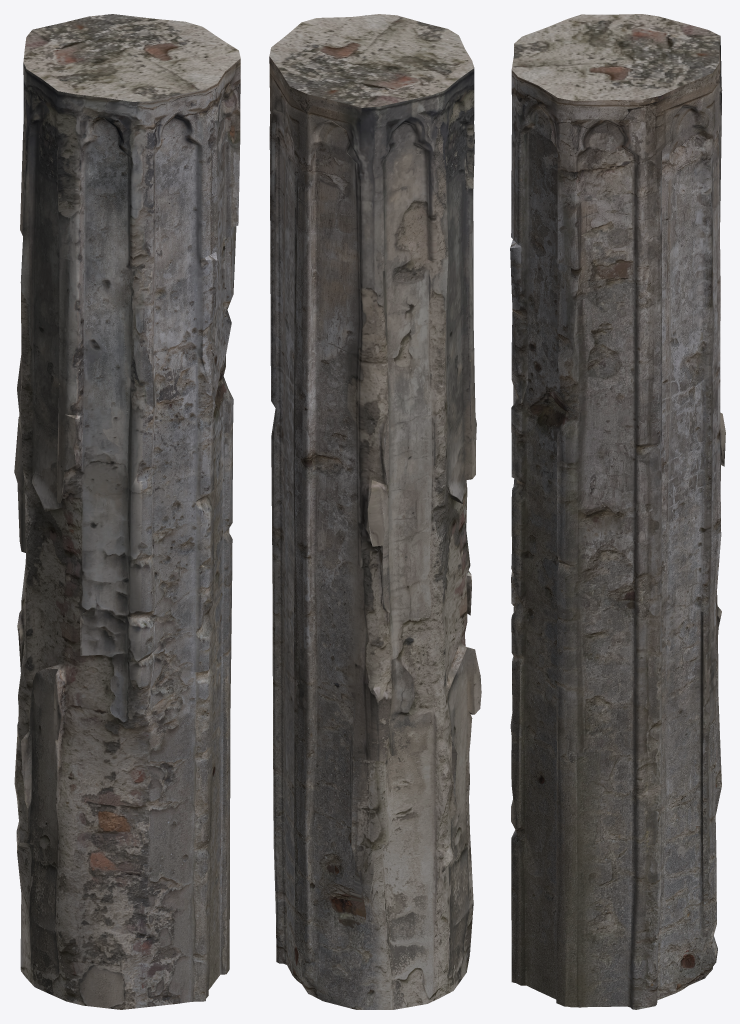
The model's file is SM_ChapelColumn_01_08.fbx.
3 views of the same model, side by side, from view 1: azimuth 30°, elevation 25°; view 2: azimuth 150°, elevation 25°; view 3: azimuth 270°, elevation 25° (orthographic).
Parts seen in each view (by area): view 1: sm_ChapelColumn_01_08_LOD0; view 2: sm_ChapelColumn_01_08_LOD0; view 3: sm_ChapelColumn_01_08_LOD0.
Part boxes in pixels (x1,y1,x2,y2): sm_ChapelColumn_01_08_LOD0: (14, 14, 240, 1009); sm_ChapelColumn_01_08_LOD0: (269, 14, 481, 1009); sm_ChapelColumn_01_08_LOD0: (510, 14, 725, 1009).
Size of the model in its own units: 80.43 by 80.68 by 375.
